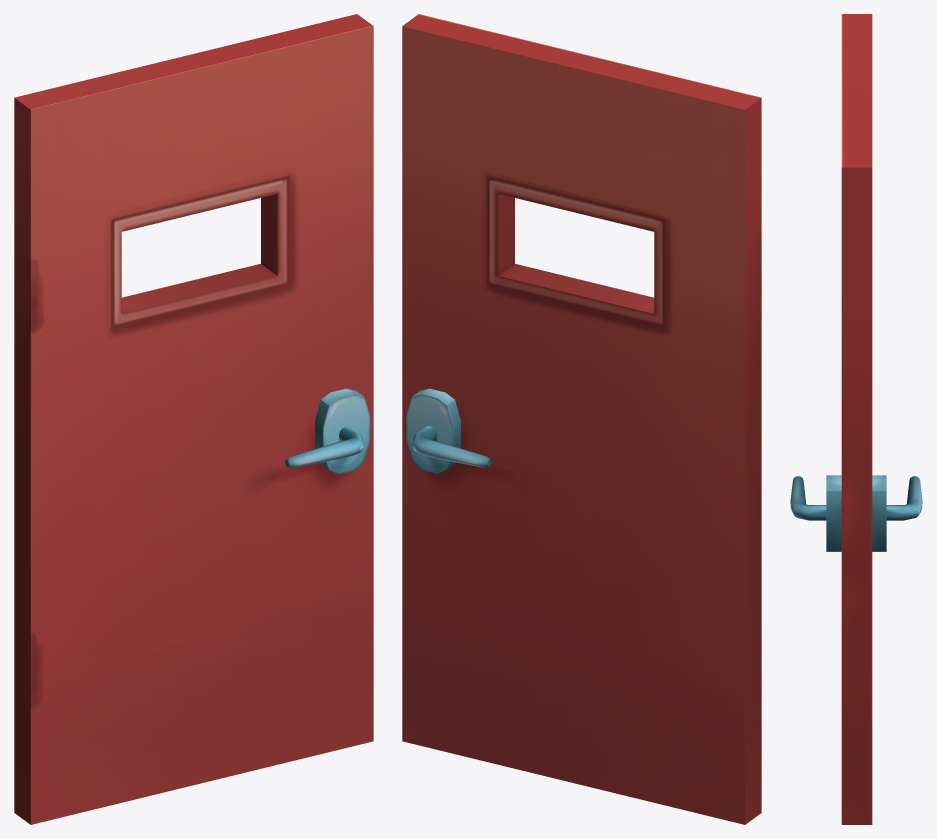
File: Door.FBX
3 views of the same model, side by side, from view 1: azimuth 30°, elevation 25°; view 2: azimuth 150°, elevation 25°; view 3: azimuth 270°, elevation 25° (orthographic). The views are drawn at different scales.
Visible parts, largest first — view 1: Box070; view 2: Box070; view 3: Box070.
Boxes of the visible parts, x1,y1,x2,y2 form: Box070: (14,14,373,824); Box070: (402,14,761,824); Box070: (790,14,922,824).
Size of the model in its own units: 9.26 by 18.45 by 3.37.
